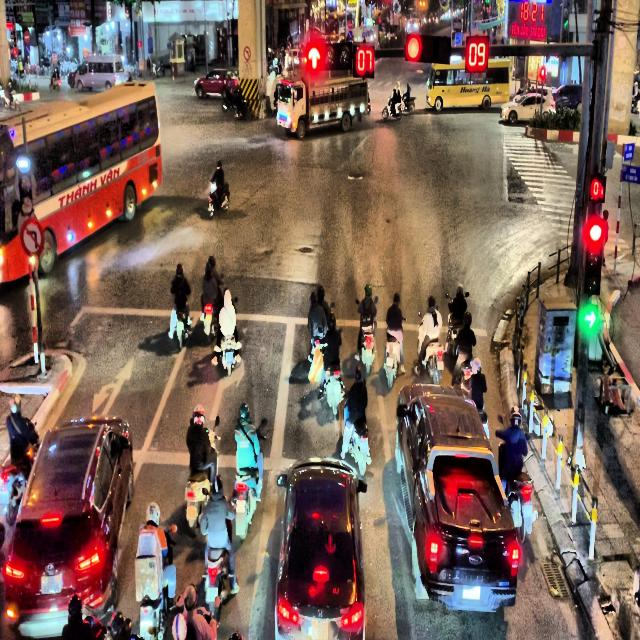lisence_plate: (40, 573, 66, 597), (461, 582, 482, 602), (310, 617, 329, 639)
